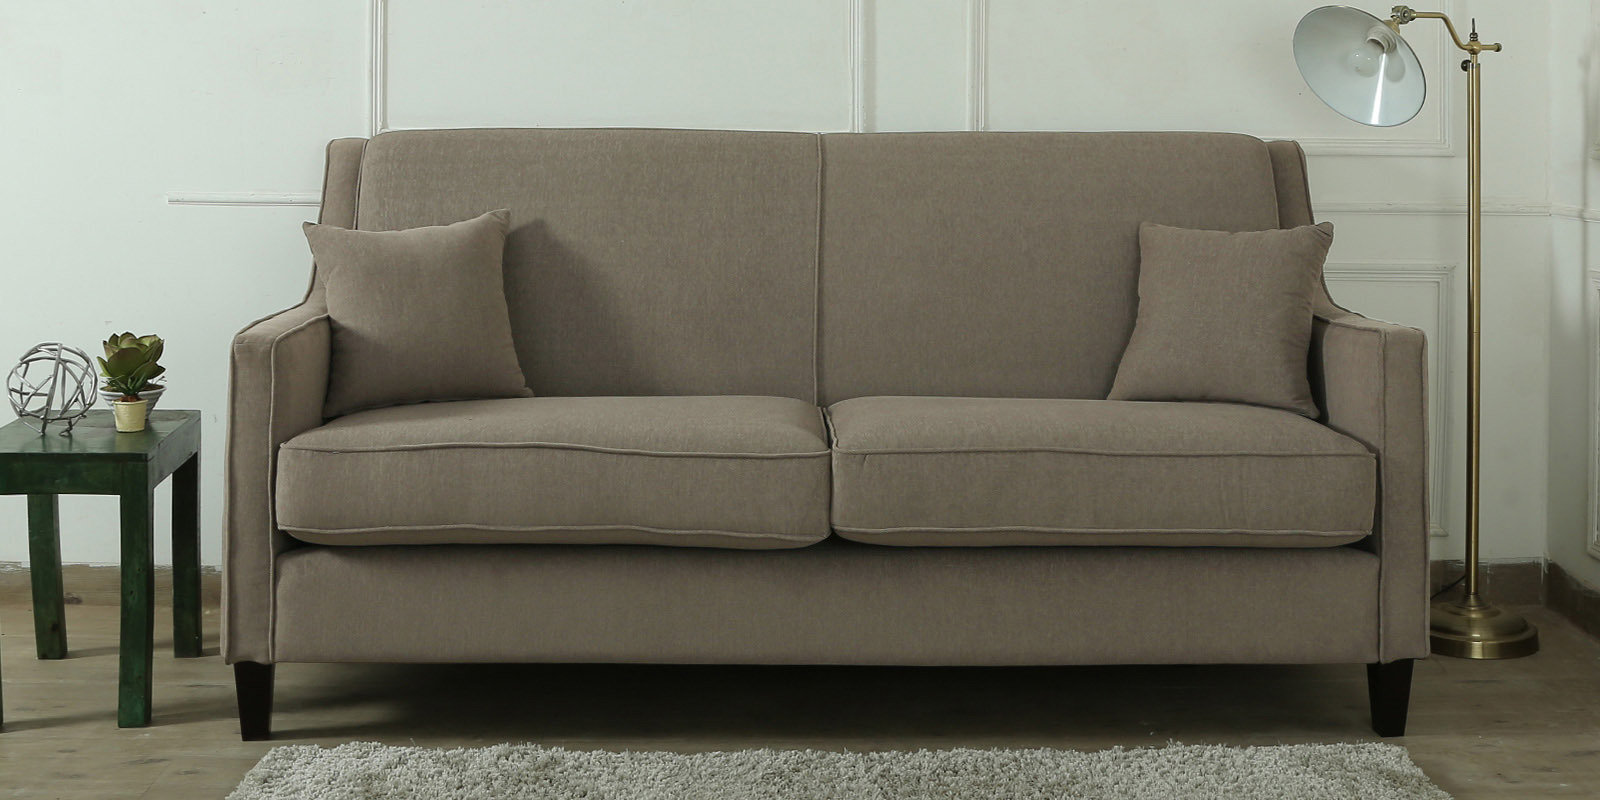Oscar Three Seater Sofa in Sandy Brown Colour by CasaCraft: (223, 126, 1433, 739)
